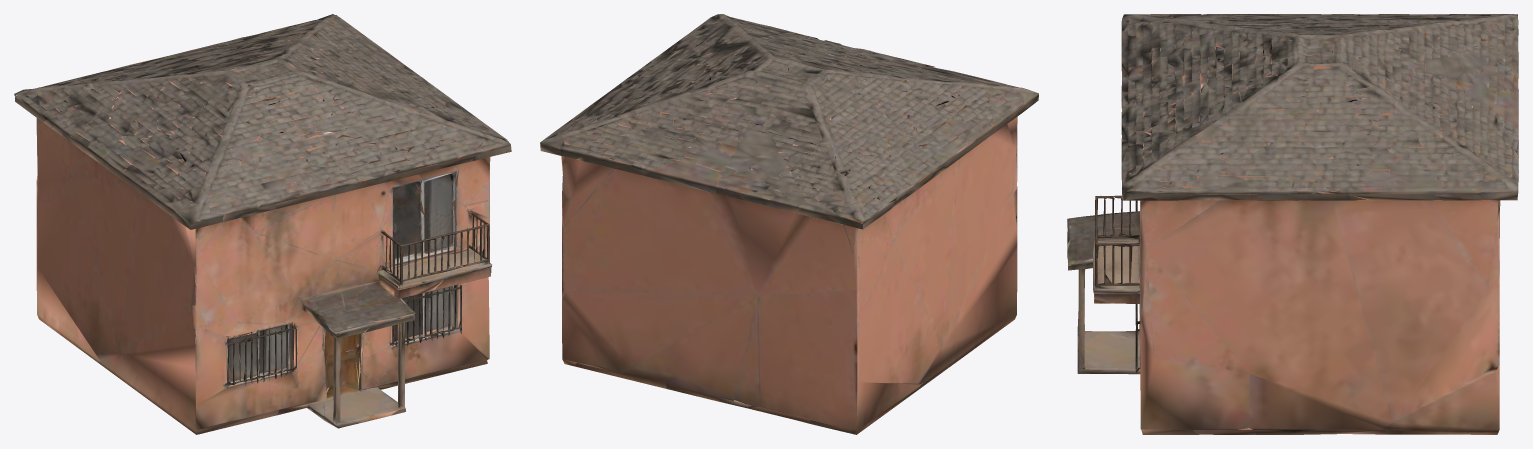
Rendered from house-02-two-story.far.glb.
The picture shows the model from 3 angles, left to right: view 1: azimuth 30°, elevation 25°; view 2: azimuth 150°, elevation 25°; view 3: azimuth 270°, elevation 25°; orthographic projection. The views are drawn at different scales.
Visible parts, largest first — view 1: geometry_0; view 2: geometry_0; view 3: geometry_0.
Boxes of the visible parts, bbox=[...] form: geometry_0: bbox=[14, 14, 511, 434]; geometry_0: bbox=[540, 14, 1038, 434]; geometry_0: bbox=[1067, 14, 1518, 434].
Bounding box in the file's own units: 1.75 × 1.4 × 1.88.
Materials: 1 (1 with a texture image).
